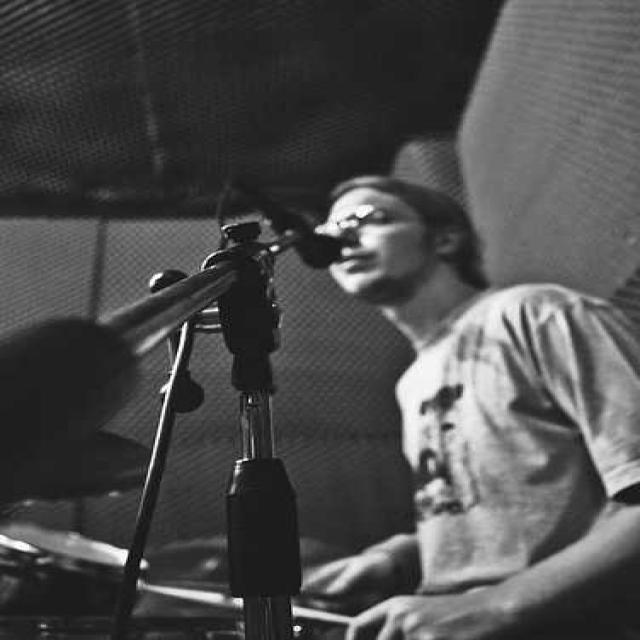microphone: (223, 161, 350, 288)
